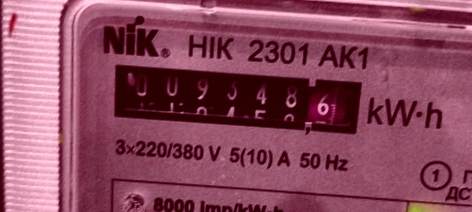0: (132, 72, 150, 99), (164, 71, 179, 98)
3: (224, 76, 240, 102)
4: (251, 76, 271, 107)
6: (314, 89, 332, 119)
8: (283, 81, 300, 110)
9: (194, 76, 210, 104)
screen: (93, 49, 376, 147)
